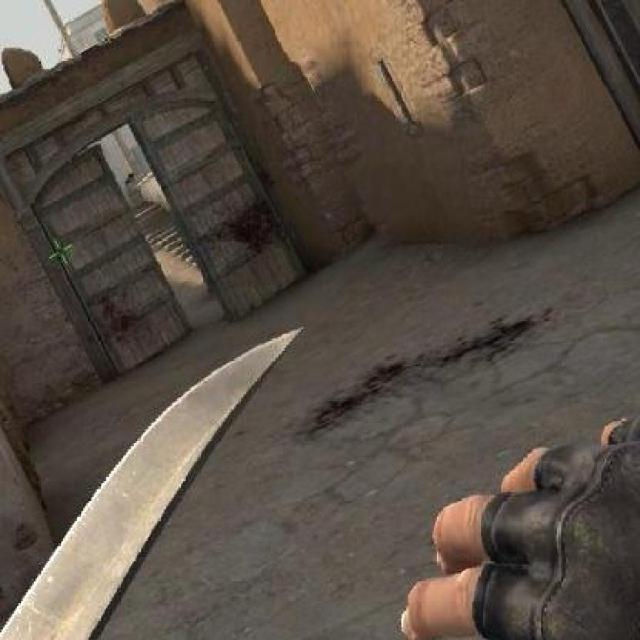CT_HEAD: (126, 172, 136, 180)
